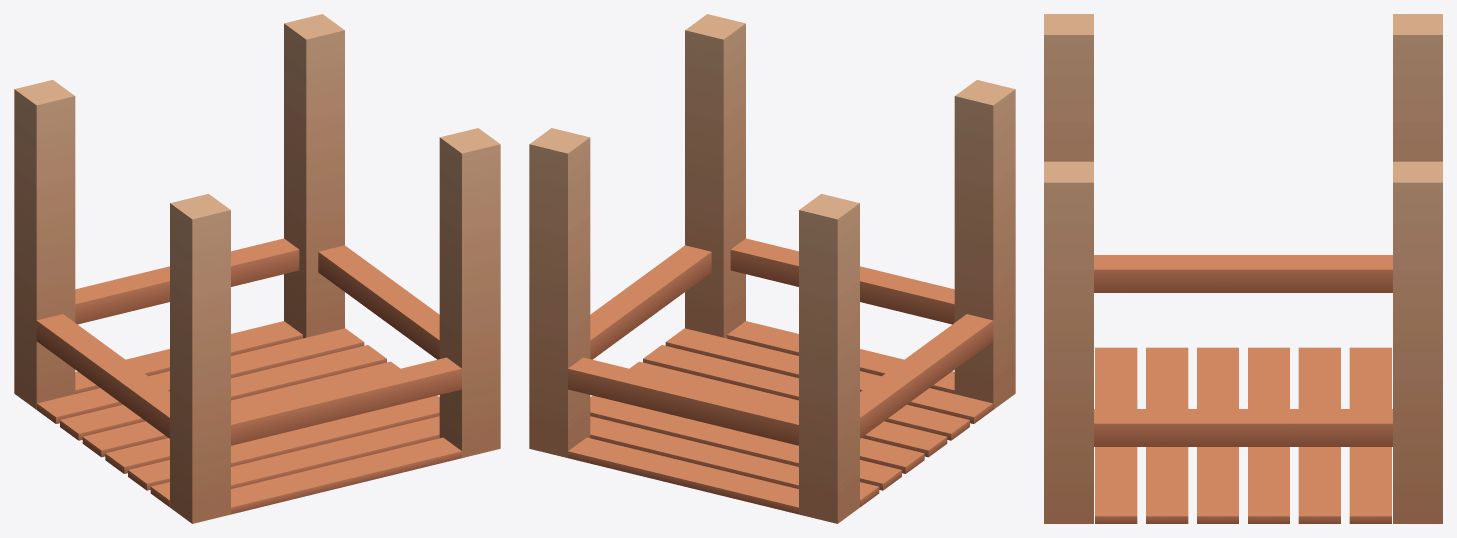
Rendered from kenney-castle-tower-square-mid-open-simple.glb.
3 views of the same model, side by side, from view 1: azimuth 30°, elevation 25°; view 2: azimuth 150°, elevation 25°; view 3: azimuth 270°, elevation 25° (orthographic). The views are drawn at different scales.
Parts seen in each view (by area): view 1: tower-square-mid-open-simple; view 2: tower-square-mid-open-simple; view 3: tower-square-mid-open-simple.
Part boxes in pixels (x1,y1,x2,y2): tower-square-mid-open-simple: (14, 14, 500, 523); tower-square-mid-open-simple: (529, 14, 1015, 523); tower-square-mid-open-simple: (1044, 14, 1442, 523).
Bounding box in the file's own units: 0.93 × 0.8781 × 0.93.
1 material, 1 textured.
